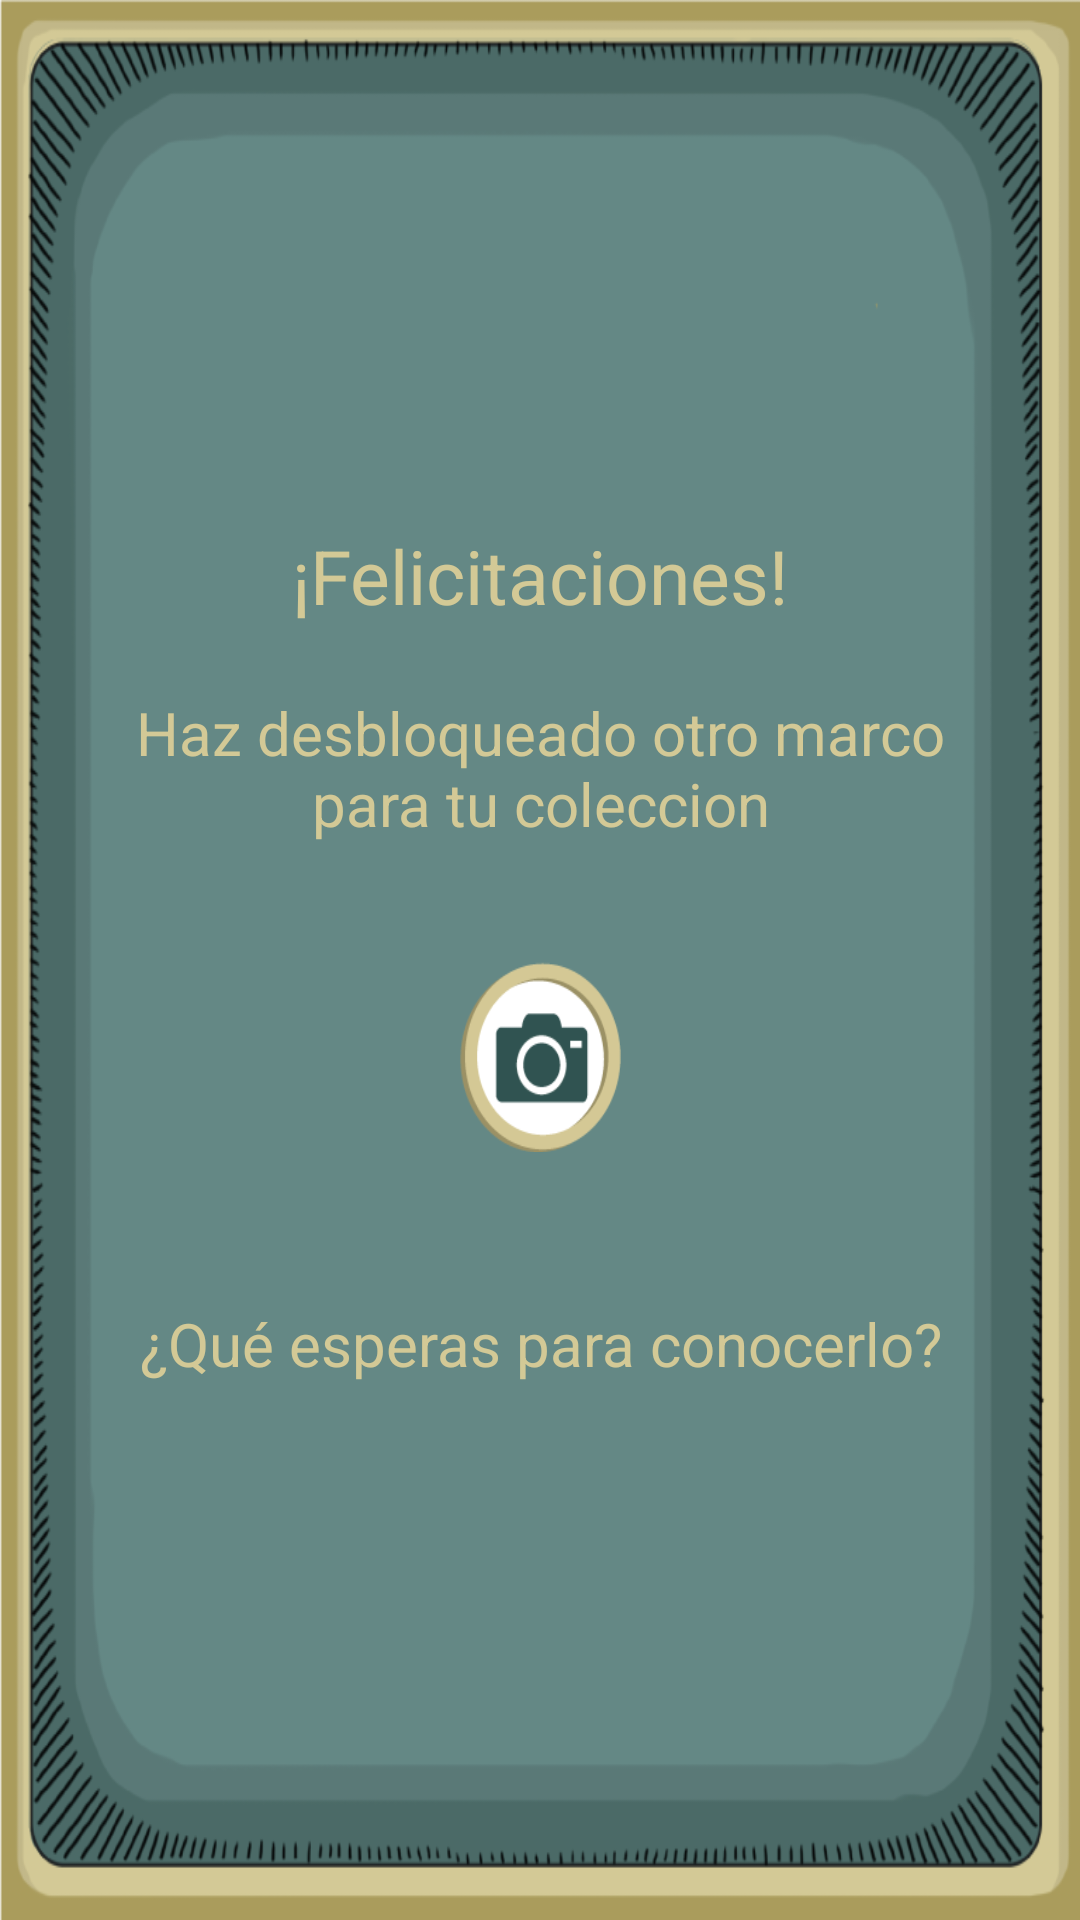

Icons on this 1080px×1920px Android screen, each with the point to tap as (x=x, y=y):
camara reto: (x=540, y=1057)
